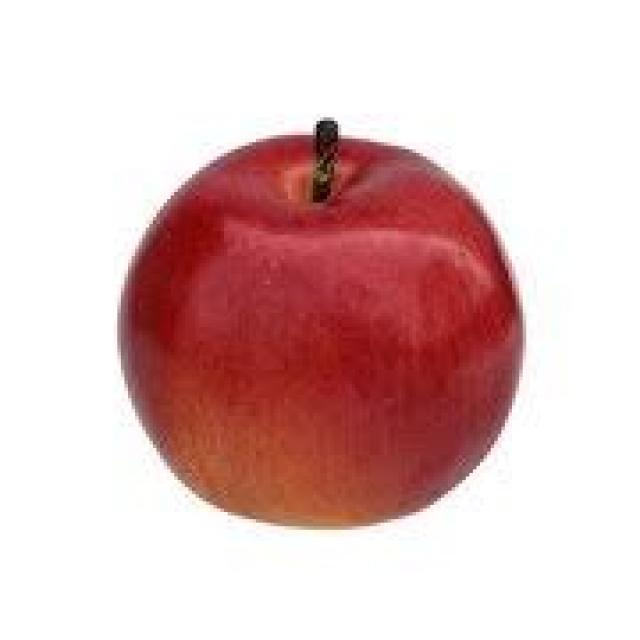organic waste: (114, 114, 522, 533)
